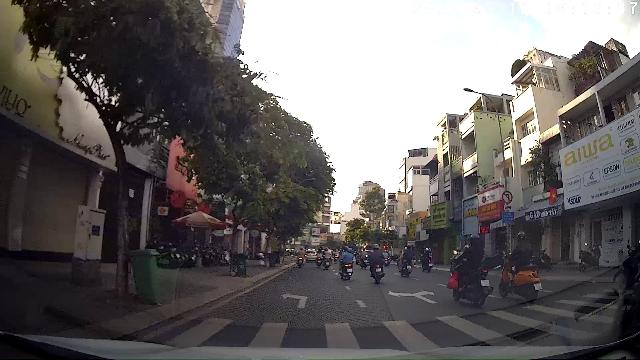123a-cam-re-trai: (502, 190, 512, 204)
